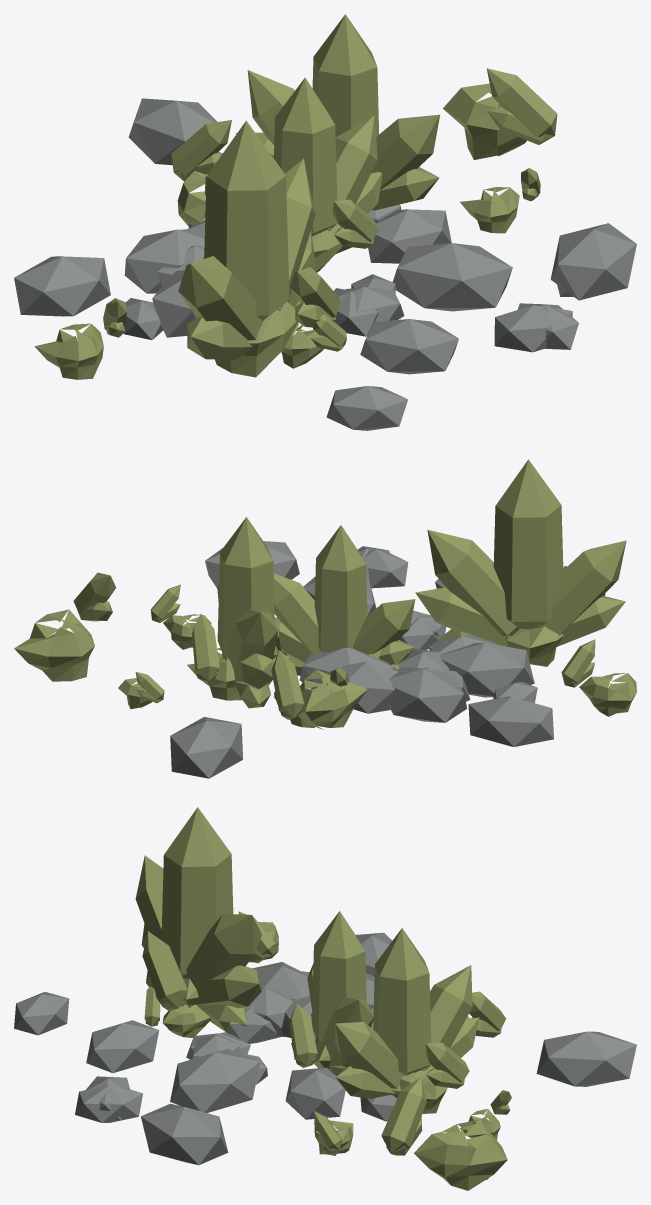
Rendered from uranium_medium.glb.
3 renders of one model, top to bottom at view 1: azimuth 30°, elevation 25°; view 2: azimuth 150°, elevation 25°; view 3: azimuth 270°, elevation 25°, orthographic. The views are drawn at different scales.
Parts seen in each view (by area): view 1: body/arcane.001; view 2: body/arcane.001; view 3: body/arcane.001.
Part boxes in pixels (x1,y1,x2,y2): body/arcane.001: [14, 14, 636, 430]; body/arcane.001: [14, 459, 636, 778]; body/arcane.001: [14, 807, 636, 1190].
Bounding box in the file's own units: 5.86 × 2.32 × 6.11.
